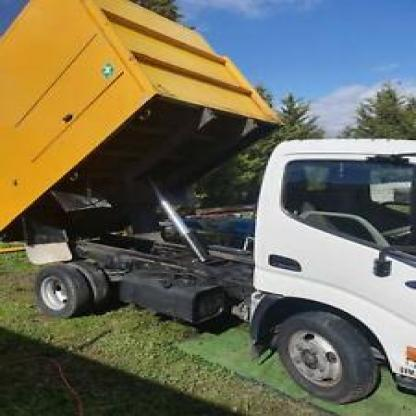dump_truck: (0, 3, 414, 402)
